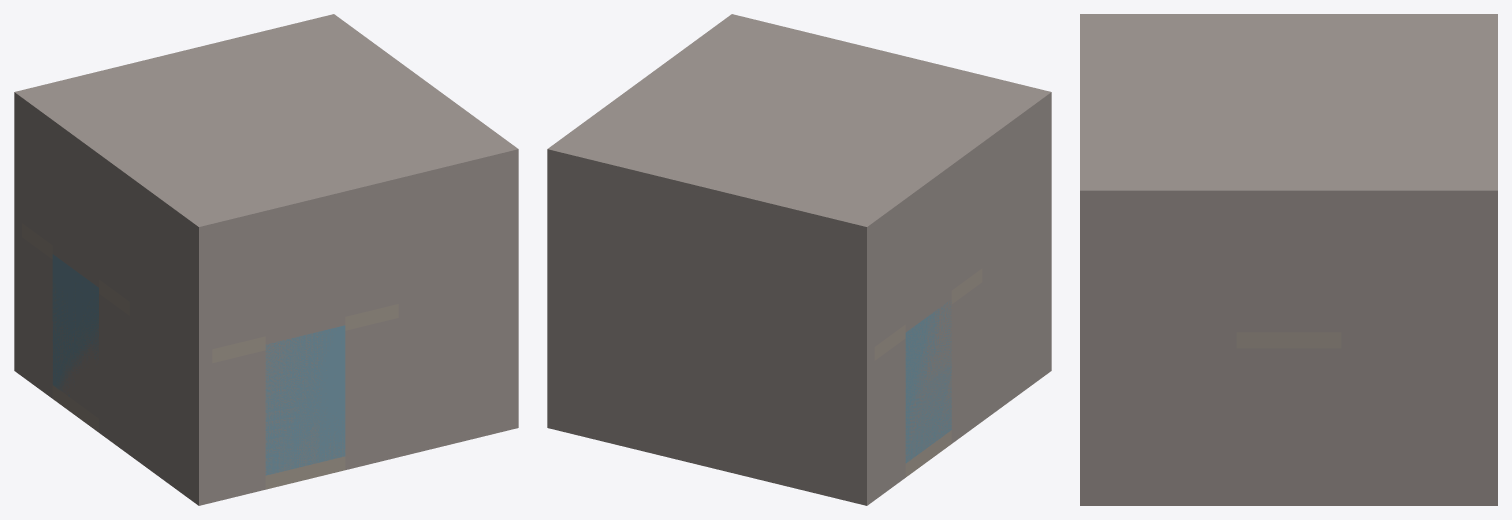
File: creek-bend-mirror.glb
The picture shows the model from 3 angles, left to right: view 1: azimuth 30°, elevation 25°; view 2: azimuth 150°, elevation 25°; view 3: azimuth 270°, elevation 25°; orthographic projection. The views are drawn at different scales.
Parts seen in each view (by area): view 1: rock_19, rock_4, plug_creek_south, rock_15, rock_3, plug_creek_west, rock_14, rock_7, water_5, plug_creek_south.001, water_1, rock_5 (+12 smaller); view 2: rock_19, rock_1, rock_12, rock_3, plug_creek_west, rock_14, water_1, plug_creek_west.001, rock_5, rock_9, rock_16, cave-floor_1; view 3: rock_19, rock_4, rock_2, rock_15, rock_13, rock_8, plug_east, rock_18, rock_1, rock_12, cave-floor_9.
Part boxes in pixels (left/top/right/bottom): rock_19: left=14, top=14, right=518, bottom=240; rock_4: left=398, top=274, right=518, bottom=456; plug_creek_south: left=212, top=206, right=398, bottom=349; rock_15: left=398, top=163, right=518, bottom=303; rock_3: left=129, top=302, right=212, bottom=505; plug_creek_west: left=22, top=126, right=129, bottom=301; rock_14: left=129, top=191, right=212, bottom=352; rock_7: left=345, top=318, right=398, bottom=469; water_5: left=265, top=331, right=318, bottom=475; plug_creek_south.001: left=265, top=317, right=345, bottom=475; water_1: left=52, top=254, right=98, bottom=396; rock_5: left=22, top=237, right=52, bottom=398; rock_19: left=547, top=14, right=1051, bottom=240; rock_1: left=547, top=274, right=874, bottom=505; rock_12: left=547, top=163, right=874, bottom=352; rock_3: left=982, top=218, right=1051, bottom=421; plug_creek_west: left=874, top=171, right=982, bottom=346; rock_14: left=982, top=106, right=1051, bottom=267; water_1: left=905, top=301, right=951, bottom=463; plug_creek_west.001: left=905, top=291, right=951, bottom=460; rock_5: left=874, top=338, right=905, bottom=499; rock_9: left=951, top=282, right=982, bottom=443; rock_16: left=874, top=157, right=982, bottom=248; cave-floor_1: left=905, top=430, right=951, bottom=477; rock_19: left=1080, top=14, right=1497, bottom=206; rock_4: left=1080, top=332, right=1236, bottom=505; rock_2: left=1341, top=332, right=1480, bottom=505; rock_15: left=1080, top=206, right=1236, bottom=332; rock_13: left=1341, top=206, right=1480, bottom=332; rock_8: left=1236, top=348, right=1341, bottom=505; plug_east: left=1236, top=238, right=1341, bottom=332; rock_18: left=1236, top=206, right=1341, bottom=237; rock_1: left=1480, top=332, right=1497, bottom=505; rock_12: left=1480, top=206, right=1497, bottom=332; cave-floor_9: left=1236, top=332, right=1341, bottom=348.
Size of the model in its own units: 12 by 10 by 12.
